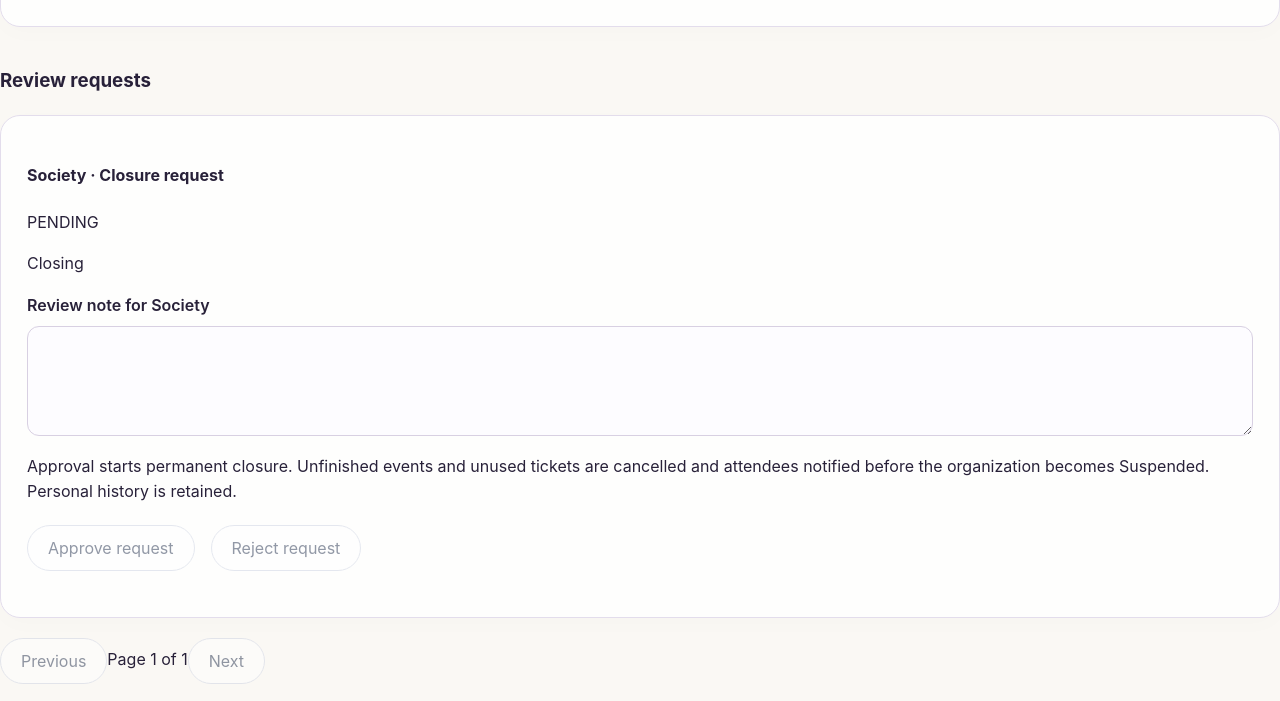
Test case: requires review notes and sends approval to the platform review endpoint
(page scrolled)
Check: the button "Approve request" is disabled, box [27, 525, 194, 571]
Type "Closure agreed" into the text box labelled "Review note for Society". click: point(640, 381)
box: [27, 326, 1253, 436]
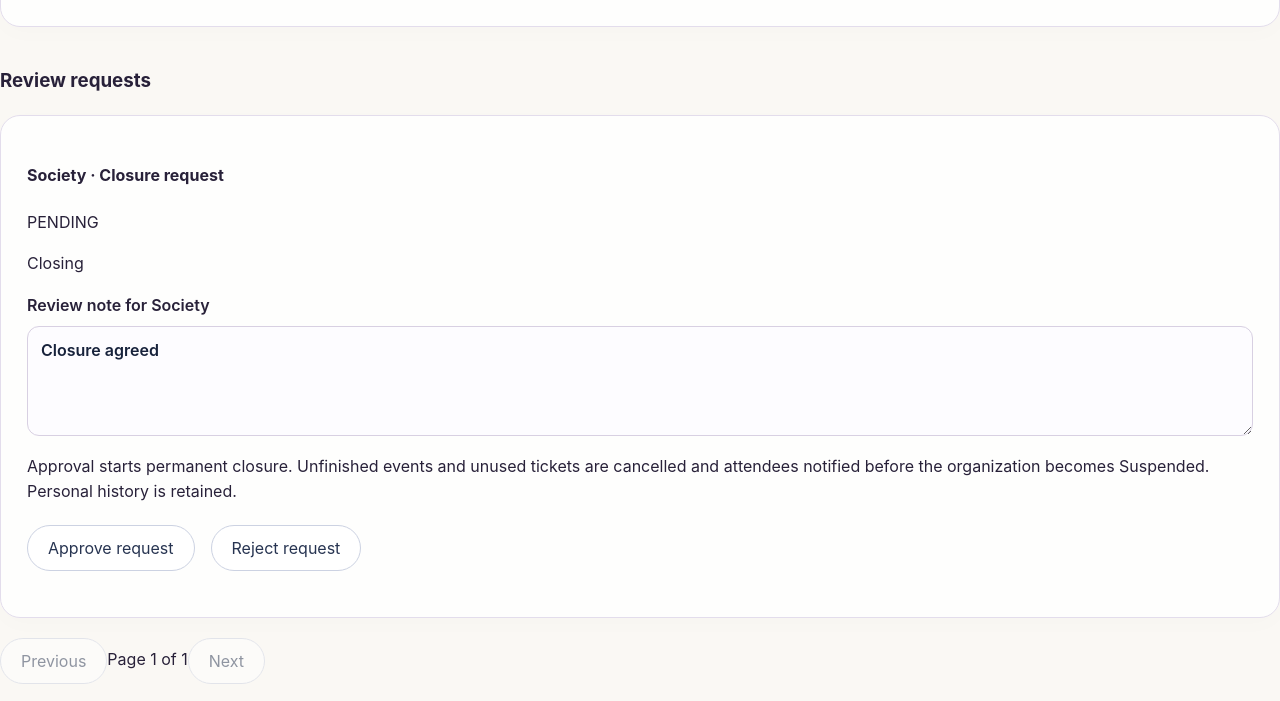
Click the button "Approve request". click: point(111, 548)
box: [27, 525, 194, 571]
(page scrolled)
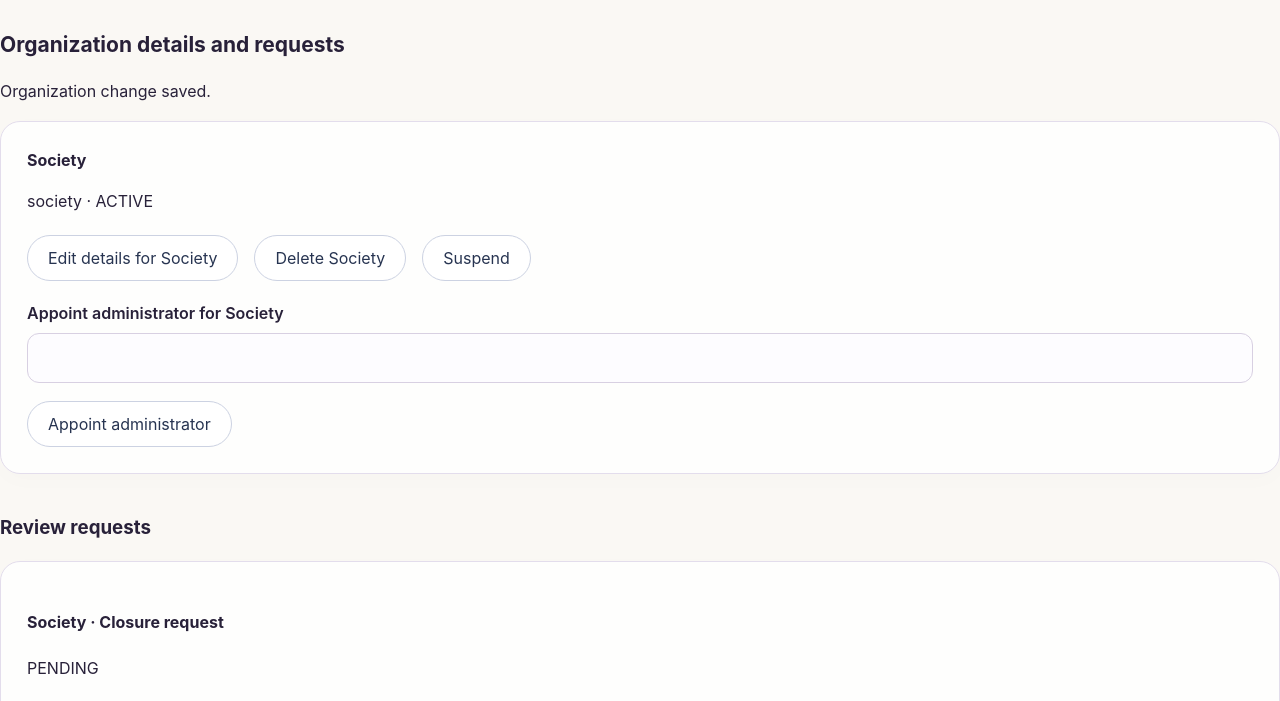
Check: the text "Organization change saved." is shown, box [0, 81, 211, 101]
